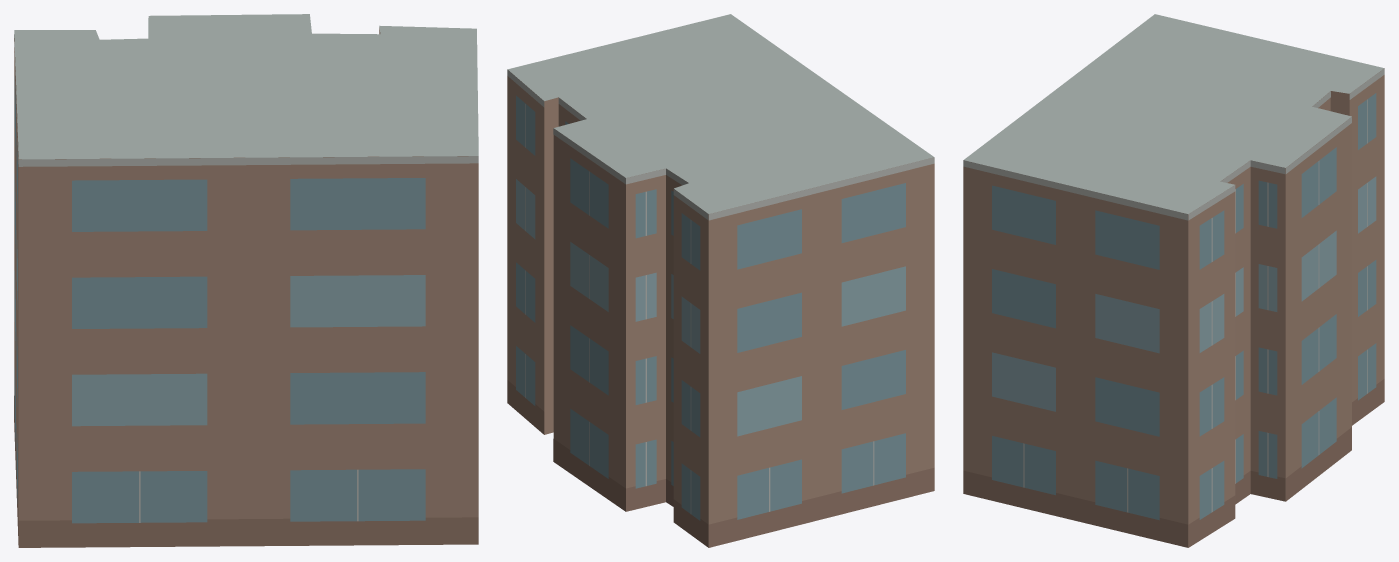
The model's file is survey-upis-32722120.glb.
3 renders of one model, left to right at view 1: azimuth 30°, elevation 25°; view 2: azimuth 150°, elevation 25°; view 3: azimuth 270°, elevation 25°, orthographic. The views are drawn at different scales.
Visible parts, largest first — view 1: survey-upis-32722120.tmp; view 2: survey-upis-32722120.tmp; view 3: survey-upis-32722120.tmp.
Boxes of the visible parts, box(x1,y1,x2,y2) form: survey-upis-32722120.tmp: box(14, 14, 478, 547); survey-upis-32722120.tmp: box(507, 14, 934, 547); survey-upis-32722120.tmp: box(963, 14, 1384, 547).
Bounding box in the file's own units: 16.35 × 12.7 × 14.54.
